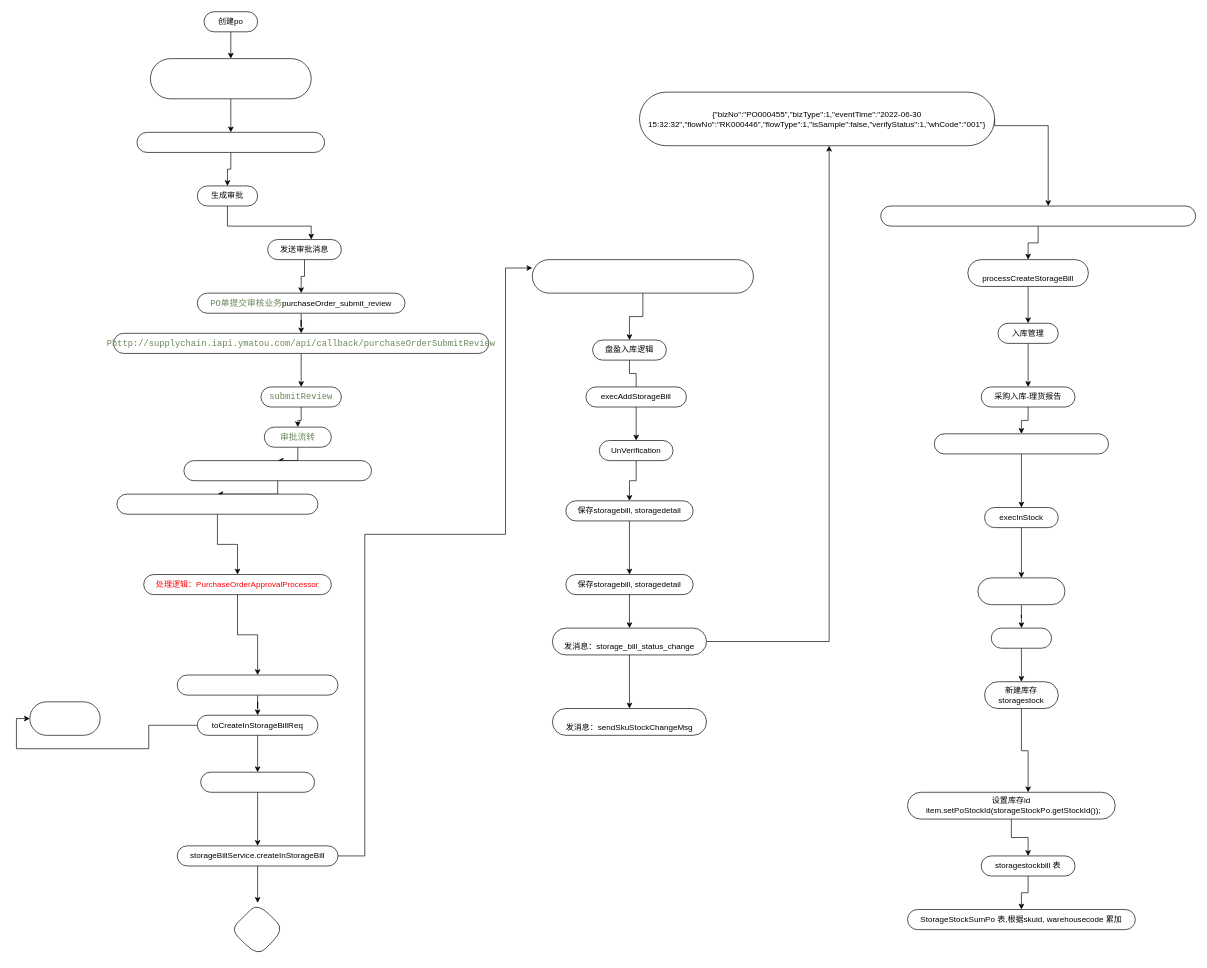
Image size: 1207x968. Some labels were removed from this diagram. The centre of each missing label's shape, as x and y in pixels:
// 保存PO单信息 /supplychain/api/purchaseOrder/save" },: point (230, 78)
addInPoStockBill: point (1021, 591)
biztype= Purchase: point (64, 718)
CreateInStorageBillReq: point (257, 782)
end: point (257, 929)
flowTypeEnum = StorageBillFlowTypeEnum.IN_STOCK: point (642, 276)
http://supplychain.iapi.ymatou.com/api/callback/receiveStorageBillStatusChange: point (1038, 215)
purchaseordercontroller/savePurchaseOrder: point (230, 142)
receiveEnterpriseWeChatApprovalChange: point (217, 503)
receivePurchaseOrderApprovalResult: point (277, 470)
supplychain/api/storageBill/uploadReport: point (1021, 443)
updateApprovalChangeStatusOfBizPo: point (257, 684)
创建库存: point (1021, 637)
